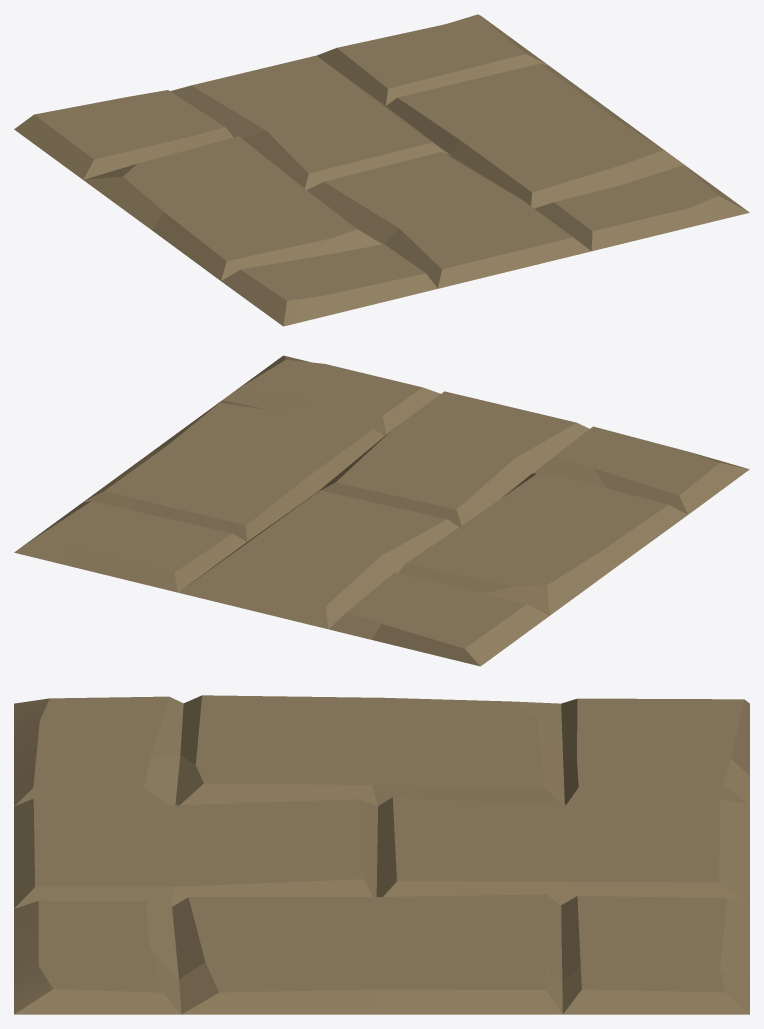
The model's file is Wall_Small_2_low.fbx.
3 renders of one model, top to bottom at view 1: azimuth 30°, elevation 25°; view 2: azimuth 150°, elevation 25°; view 3: azimuth 270°, elevation 25°, orthographic. The views are drawn at different scales.
Parts seen in each view (by area): view 1: Wall_Small_2_low; view 2: Wall_Small_2_low; view 3: Wall_Small_2_low.
Boxes of the visible parts, <box> form: Wall_Small_2_low: <box>14,14,749,326</box>; Wall_Small_2_low: <box>14,355,749,666</box>; Wall_Small_2_low: <box>14,695,749,1014</box>.
Bounding box in the file's own units: 1 × 0.0246 × 1.
